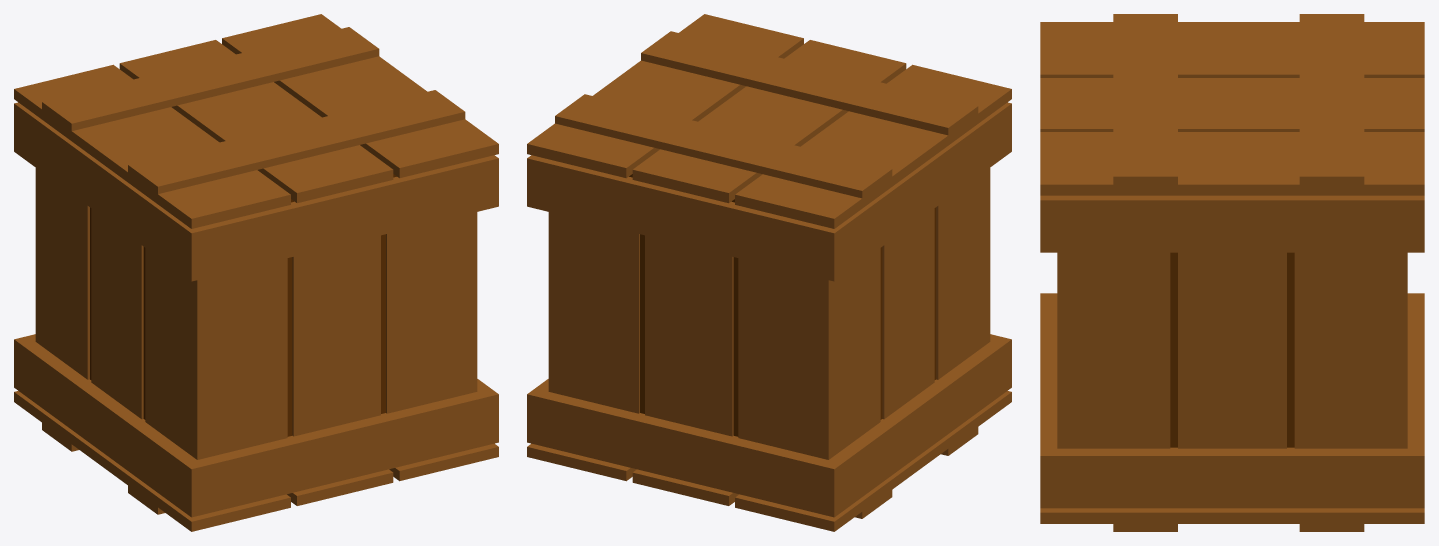
The model's file is Crate_Sealed_01.fbx.
3 renders of one model, left to right at view 1: azimuth 30°, elevation 25°; view 2: azimuth 150°, elevation 25°; view 3: azimuth 270°, elevation 25°, orthographic. The views are drawn at different scales.
Visible parts, largest first — view 1: Model; view 2: Model; view 3: Model.
Part boxes in pixels (bbox=[...]): Model: bbox=[14, 14, 498, 531]; Model: bbox=[527, 14, 1011, 531]; Model: bbox=[1040, 14, 1424, 531].
Size of the model in its own units: 300 by 306 by 300.
